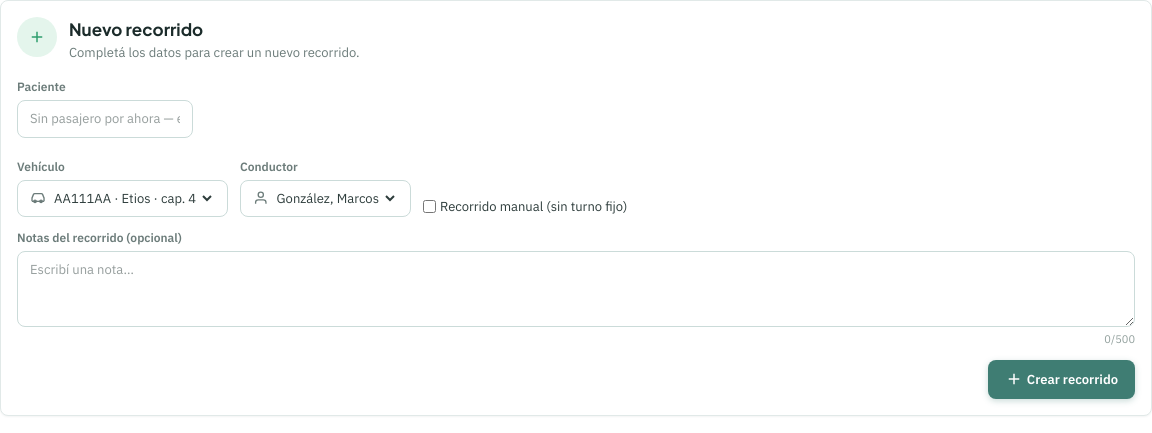
Test case: NuevoRecorridoForm › muestra un aviso y oculta el botón de crear cuando ningún vehículo disponible sirve para el paciente elegido
This screenshot has width=1152, height=433.
What coordinates should you click on to do the following:
click the dropdown labelled "Paciente"
I would click on:
 (105, 119)
Its box is [17,100,193,138].
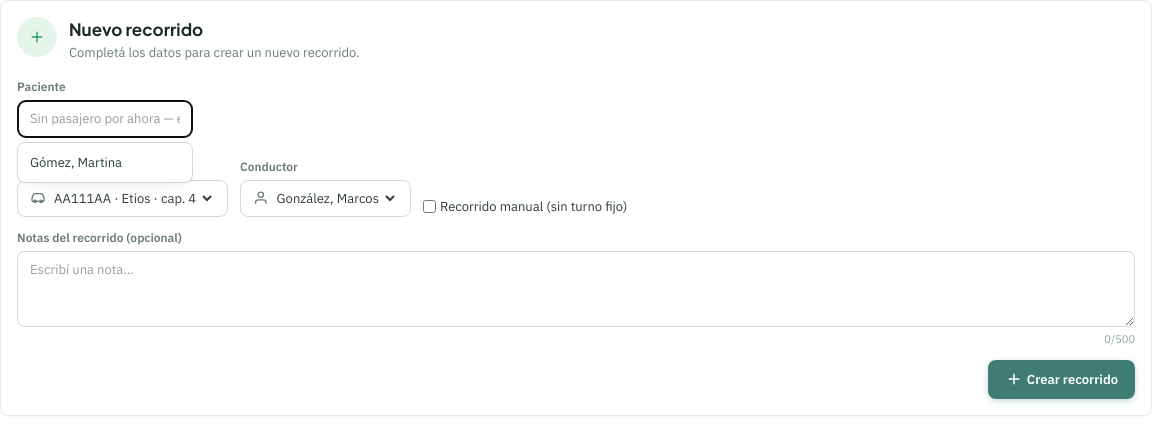
What coordinates should you click on to do the following:
click the option "Gómez, Martina"
I would click on:
 (76, 162)
Its box is [30,154,122,170].
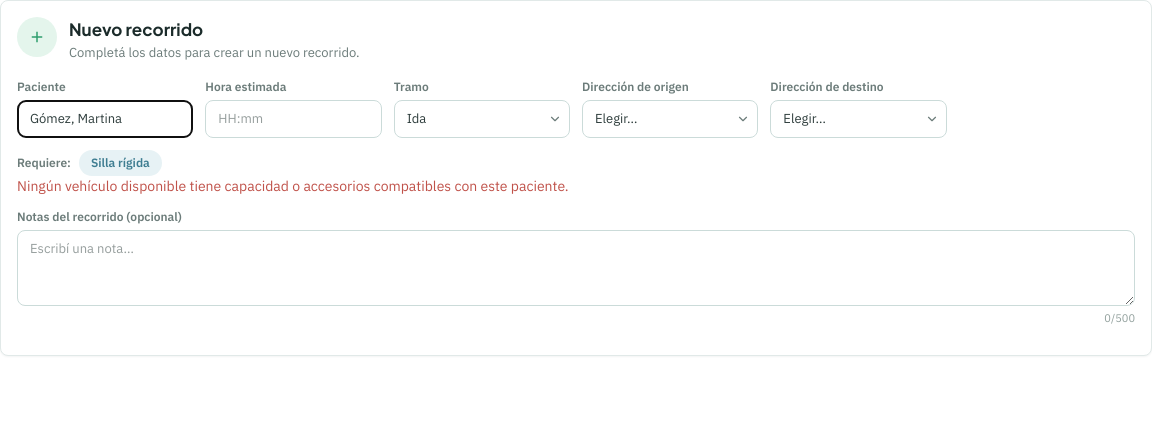
Check: the text "Ningún vehículo disponible" is shown, box [17,176,569,194]
Check: the button "Crear recorrido" is gone
